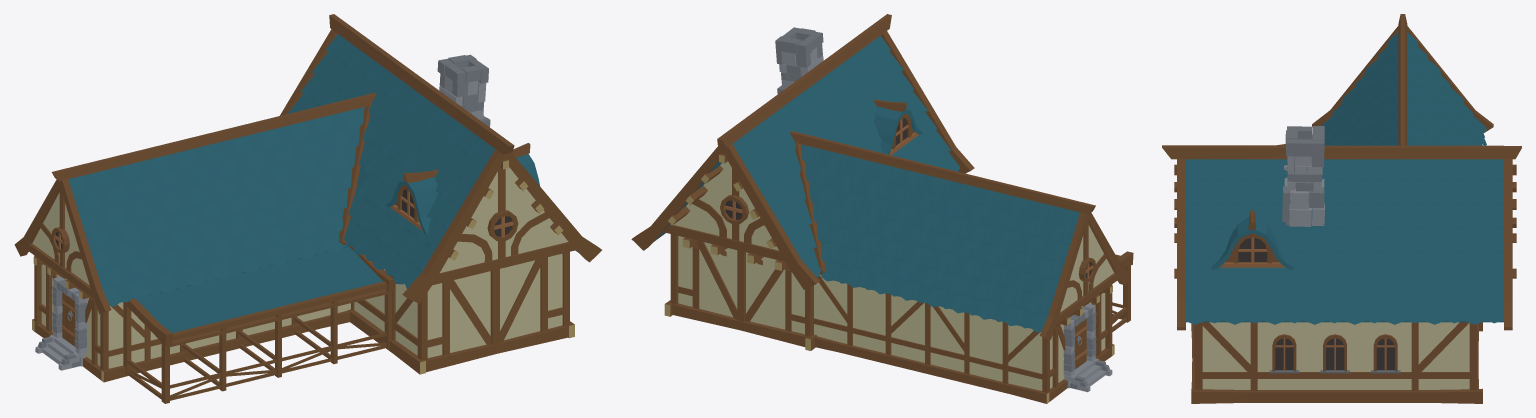
File: Stable.glb
3 views of the same model, side by side, from view 1: azimuth 30°, elevation 25°; view 2: azimuth 150°, elevation 25°; view 3: azimuth 270°, elevation 25° (orthographic). The views are drawn at different scales.
Parts seen in each view (by area): view 1: Stable; view 2: Stable; view 3: Stable.
Boxes of the visible parts, <box> form: Stable: <box>14,14,601,403</box>; Stable: <box>631,14,1133,403</box>; Stable: <box>1162,14,1521,403</box>.
Size of the model in its own units: 4.7 by 2.49 by 3.33.
1 material, 1 textured.
